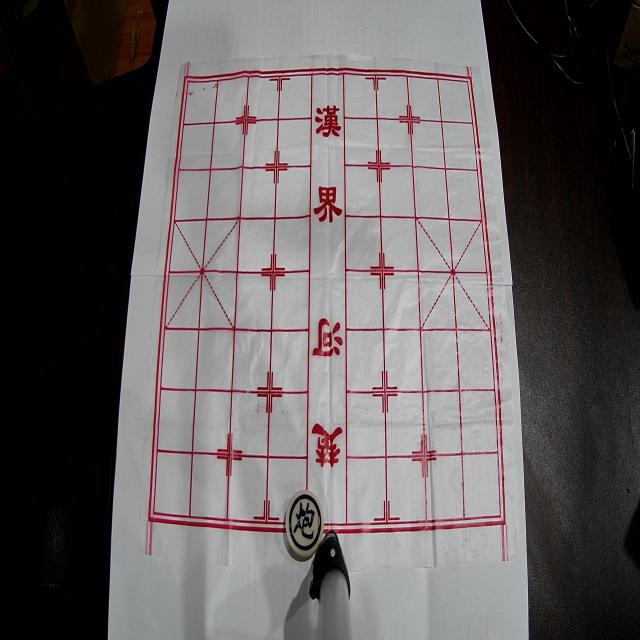black-cannon: (286, 490, 324, 558)
